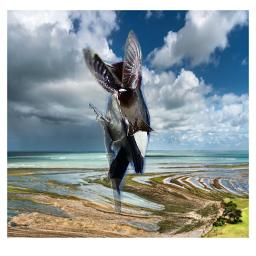Swallow: (83, 30, 155, 136)
Woodpecker: (89, 59, 151, 215)
